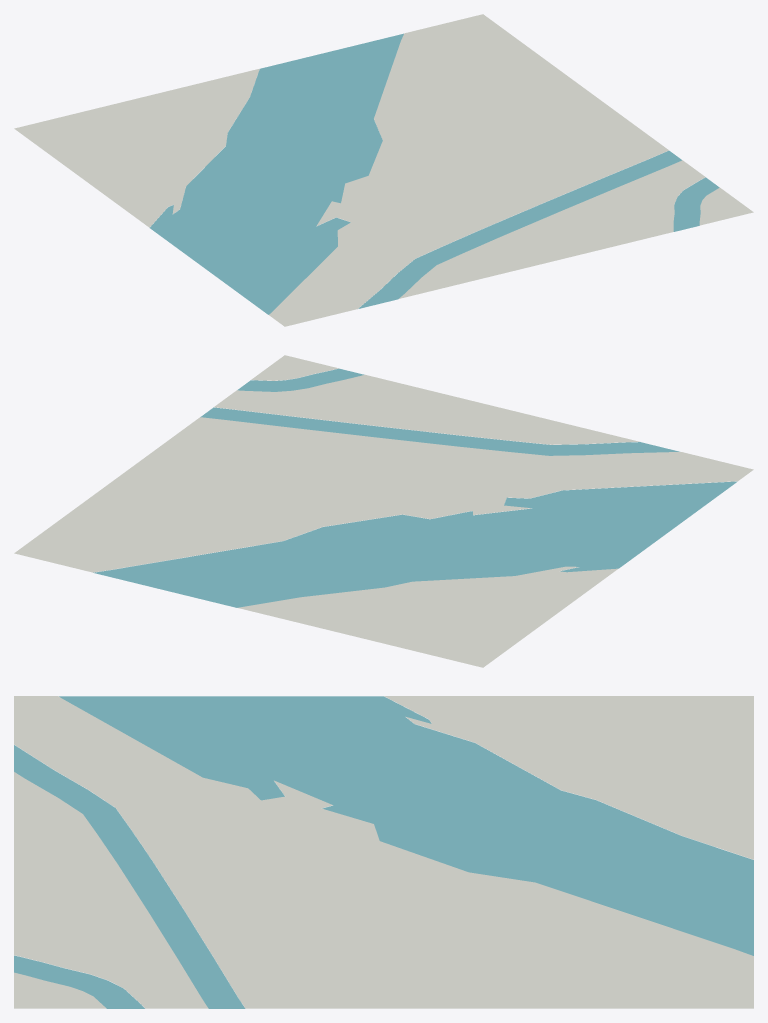
3 views of the same model, one above another, from view 1: azimuth 30°, elevation 25°; view 2: azimuth 150°, elevation 25°; view 3: azimuth 270°, elevation 25° (orthographic). The views are drawn at different scales.
Parts seen in each view (by area): view 1: city; view 2: city; view 3: city.
Boxes of the visible parts, x1=… form: city: x1=14, y1=14, x2=753, y2=326; city: x1=14, y1=355, x2=753, y2=667; city: x1=14, y1=696, x2=753, y2=1008.
Bounding box in the file's own units: 500 × 0.18 × 500.
